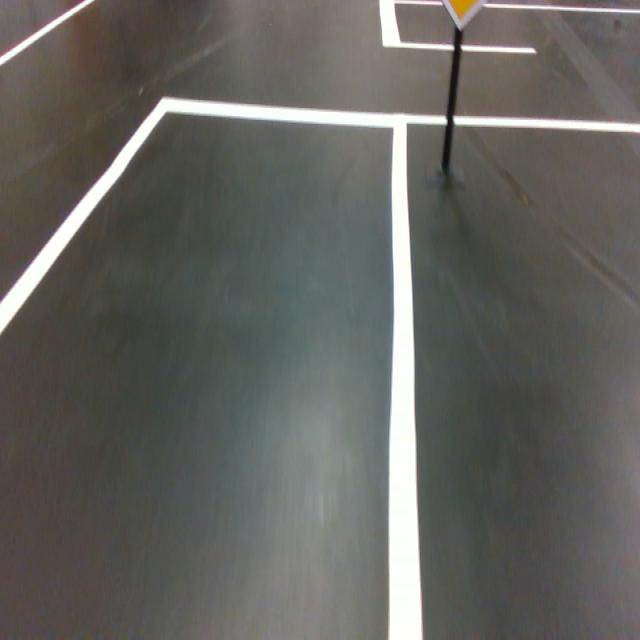priority-sign: (440, 0, 489, 33)
